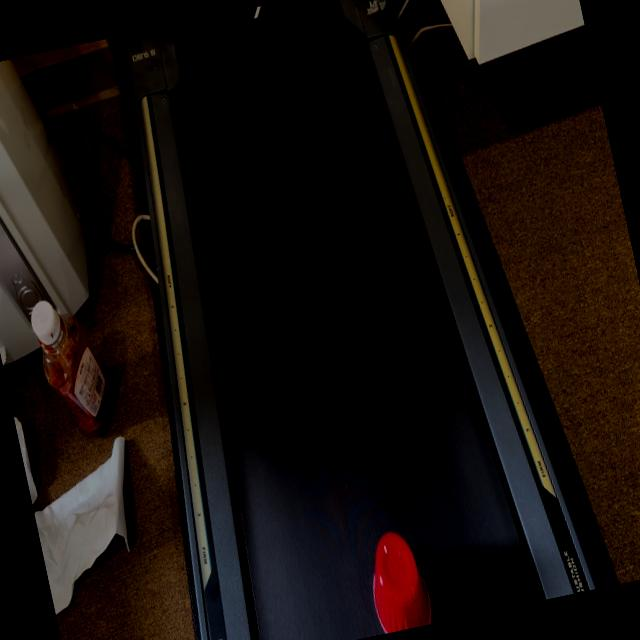Recycle: (356, 523, 438, 635)
